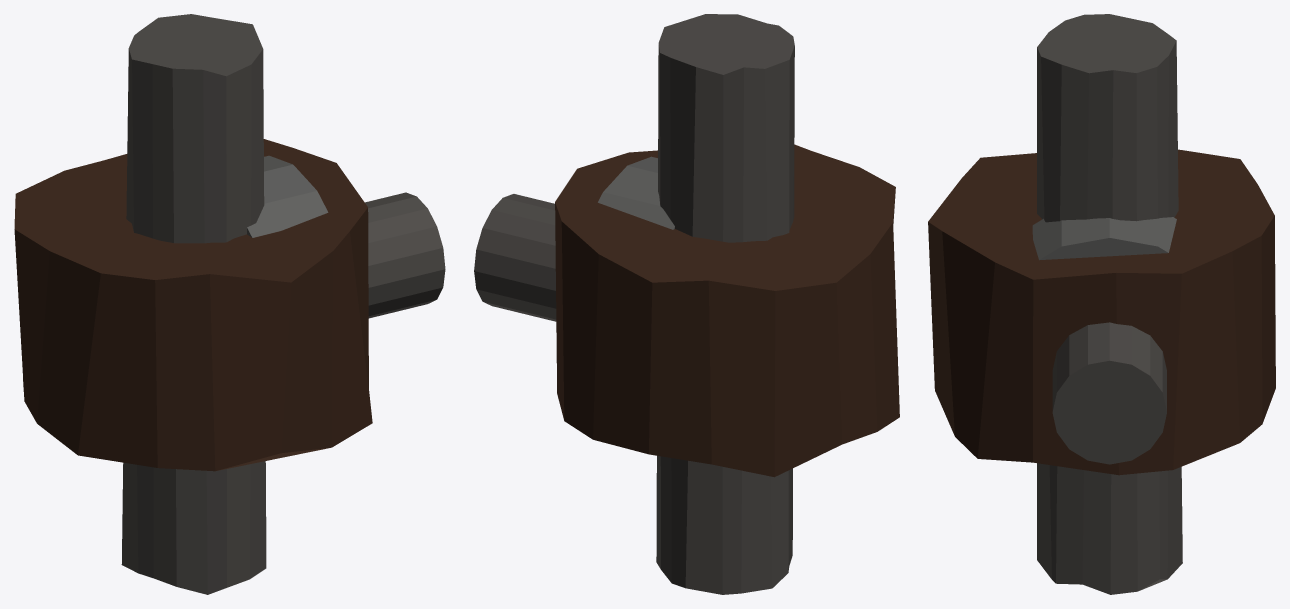
Rendered from axle.glb.
3 views of the same model, side by side, from view 1: azimuth 30°, elevation 25°; view 2: azimuth 150°, elevation 25°; view 3: azimuth 270°, elevation 25° (orthographic).
Visible parts, largest first — view 1: axle; view 2: axle; view 3: axle.
Part boxes in pixels (x1,y1,x2,y2): axle: (14,14,445,594); axle: (474,14,899,594); axle: (928,14,1275,594).
Bounding box in the file's own units: 0.7602 × 1.02 × 0.6072.
